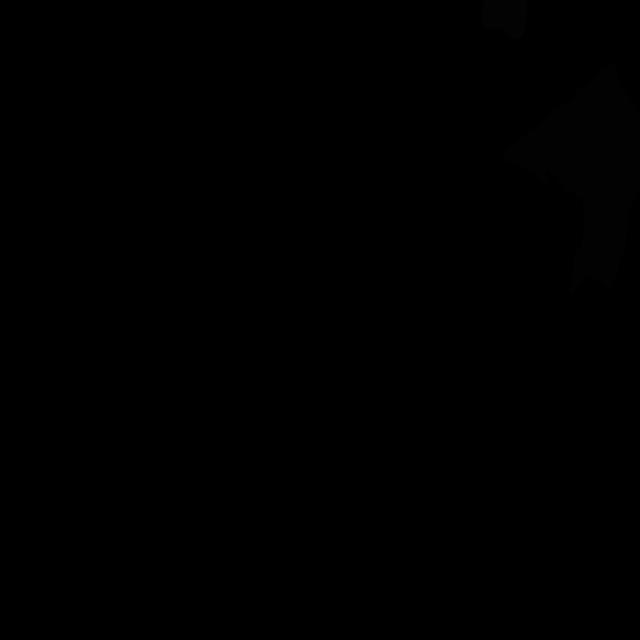cardboard: (501, 61, 640, 293)
metal: (482, 0, 528, 39)
